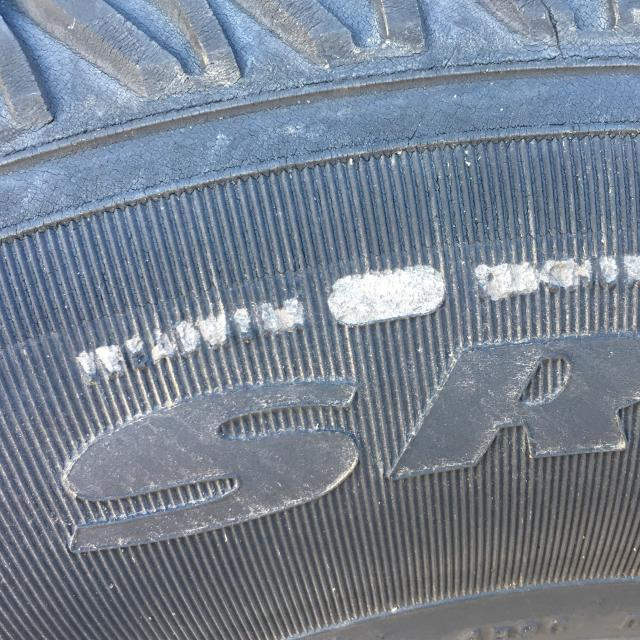Cracks: (0, 0, 640, 266)
